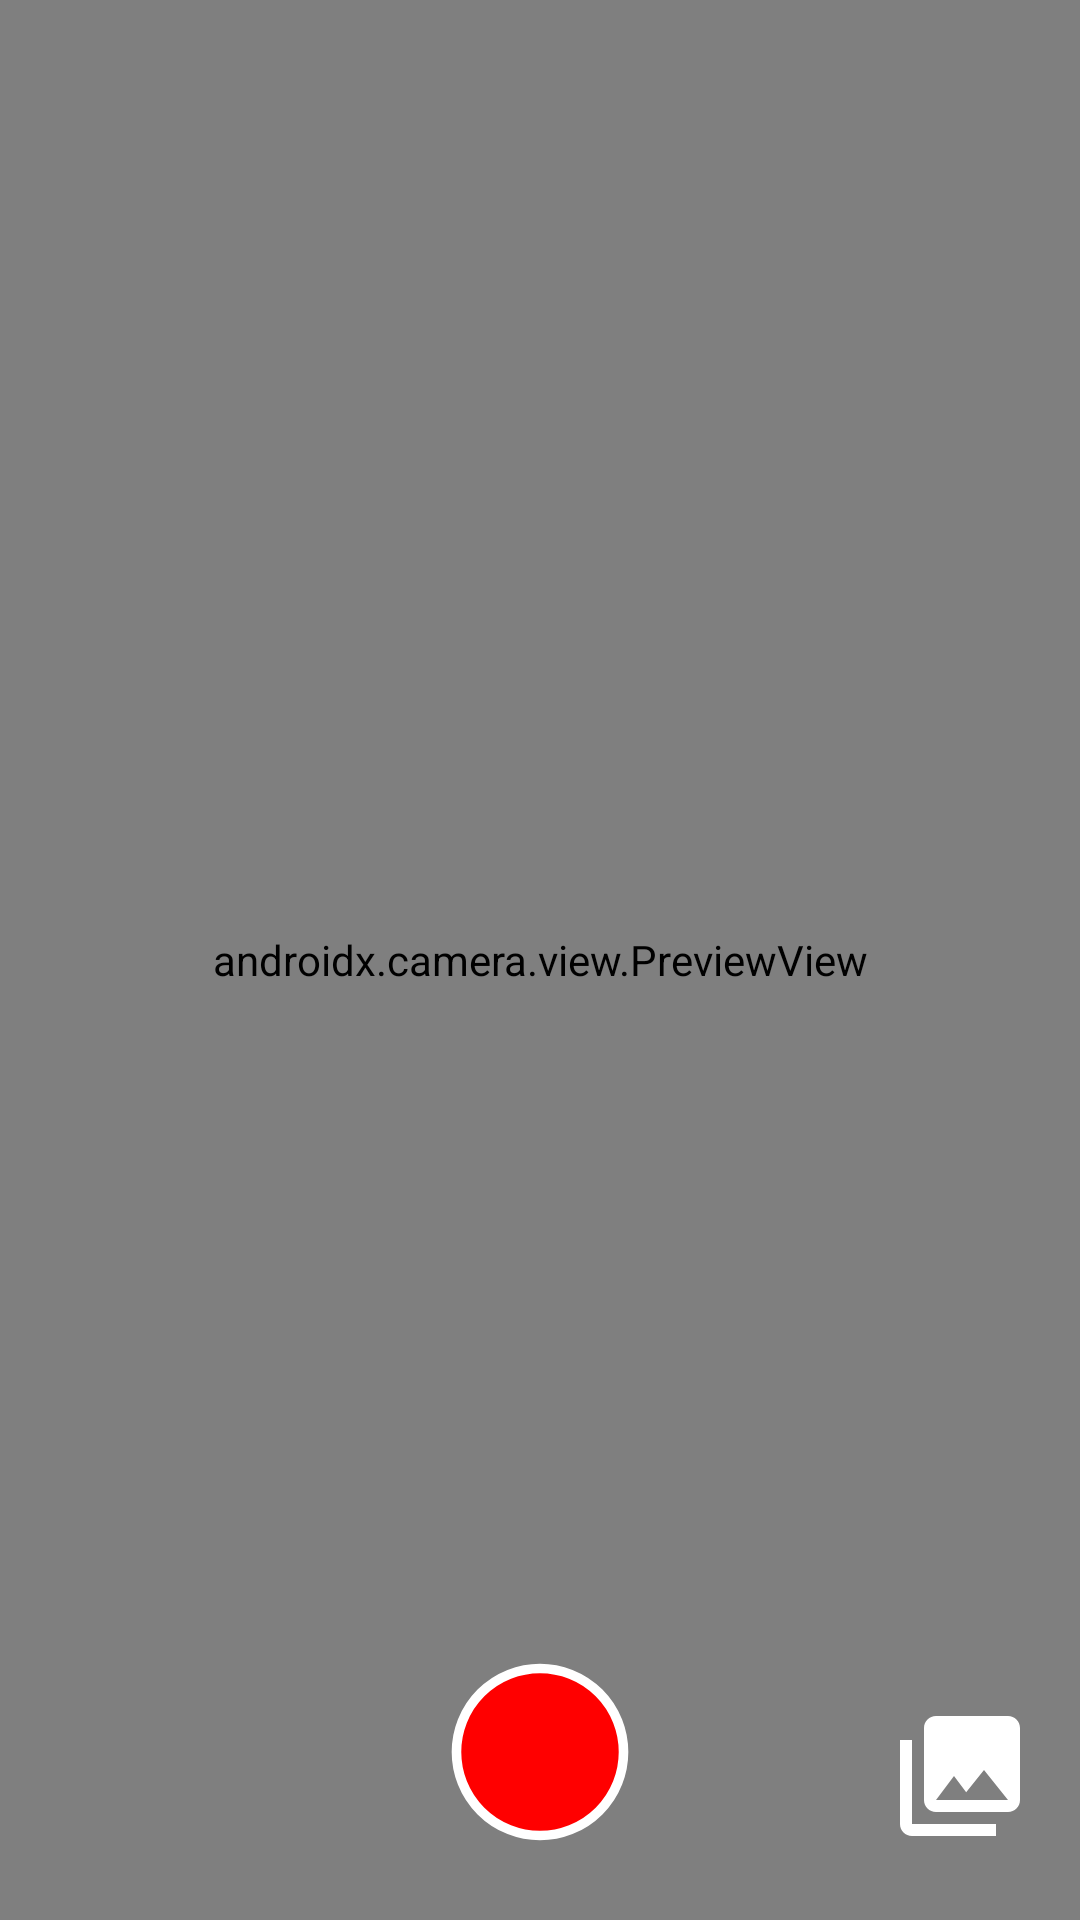

Named icons in this screenshot (1080x1920) and their bounding boxes, BBox(x1, y1, x2, y2):
Gallery button: BBox(900, 1716, 1020, 1836)
